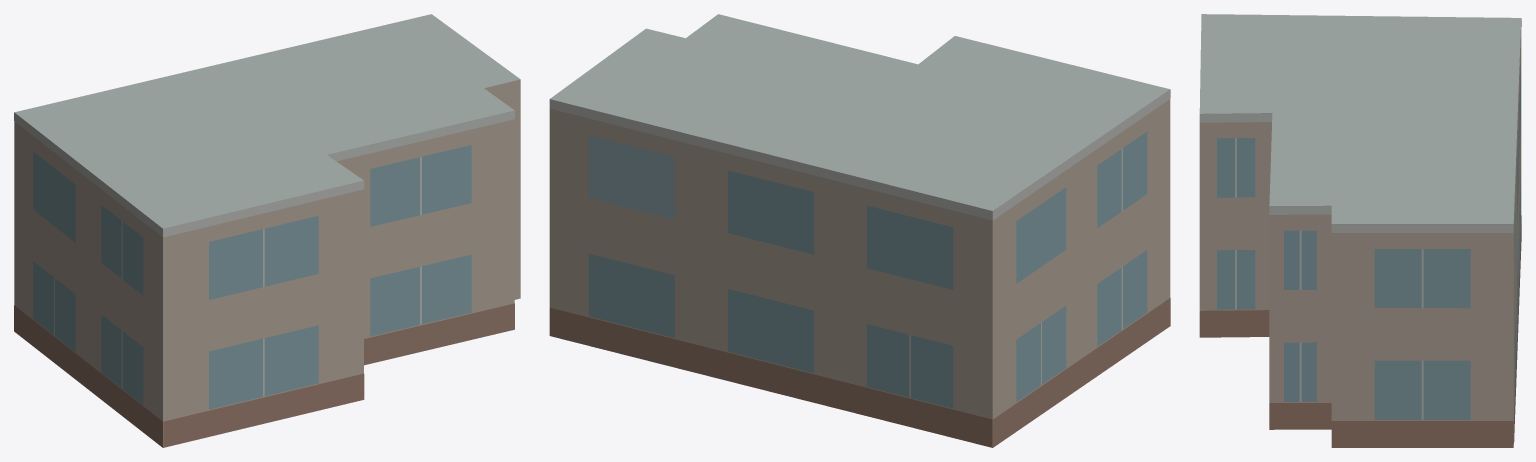
File: survey-upis-32512621.glb
The picture shows the model from 3 angles, left to right: view 1: azimuth 30°, elevation 25°; view 2: azimuth 150°, elevation 25°; view 3: azimuth 270°, elevation 25°; orthographic projection. The views are drawn at different scales.
Parts seen in each view (by area): view 1: survey-upis-32512621.tmp; view 2: survey-upis-32512621.tmp; view 3: survey-upis-32512621.tmp.
Boxes of the visible parts, left/top/right/bottom form: survey-upis-32512621.tmp: left=14, top=14, right=520, bottom=447; survey-upis-32512621.tmp: left=549, top=14, right=1170, bottom=447; survey-upis-32512621.tmp: left=1199, top=14, right=1521, bottom=447.
Size of the model in its own units: 12.29 by 6.1 by 7.96.
